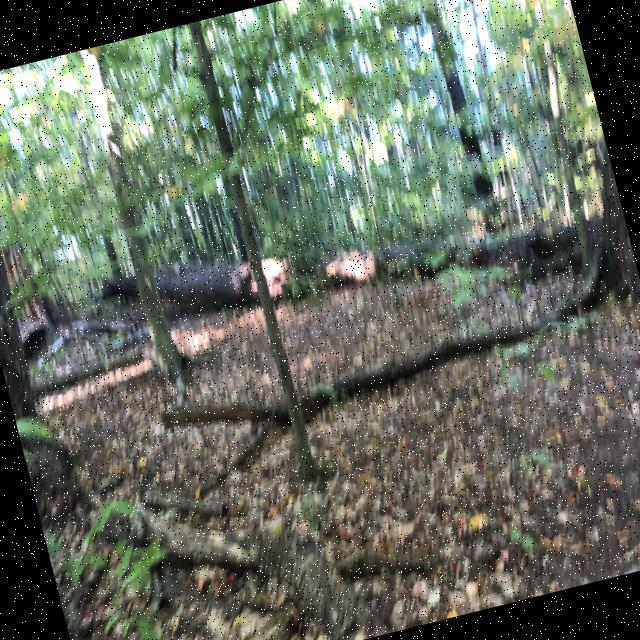fallen_object: (81, 137, 630, 381)
